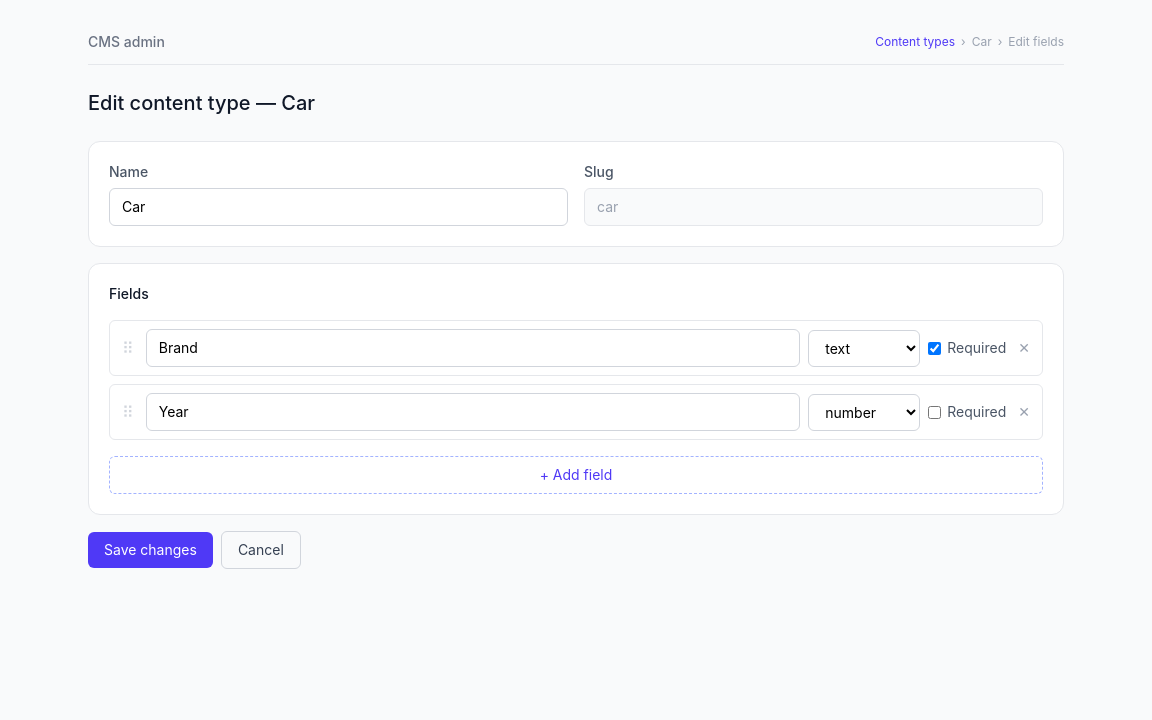
Test case: EditContentType › can add a new field
This screenshot has width=1152, height=720.
Expected: the 1st field showing "Brand" is shown, [146,329,800,367]
Click the button "+ Add field".
click(576, 475)  # box [109,456,1043,494]
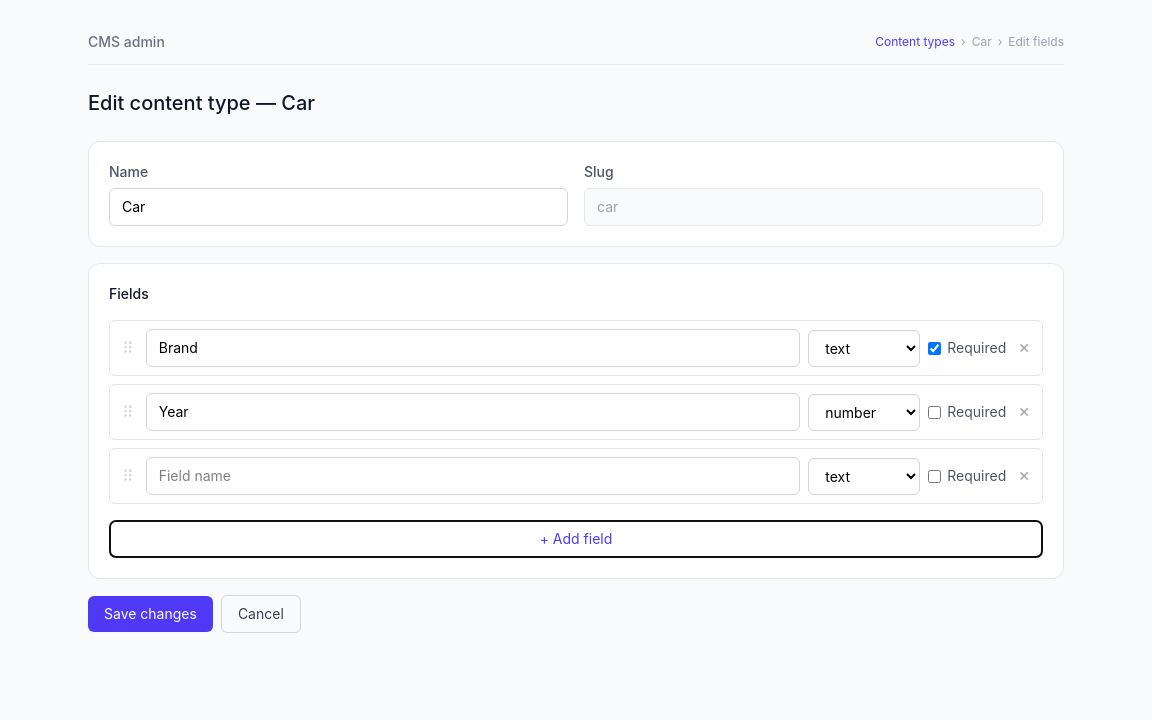
Now the number of fields with placeholder "Field name" is 3, box [146,329,800,367]; [146,393,800,431]; [146,457,800,495]
